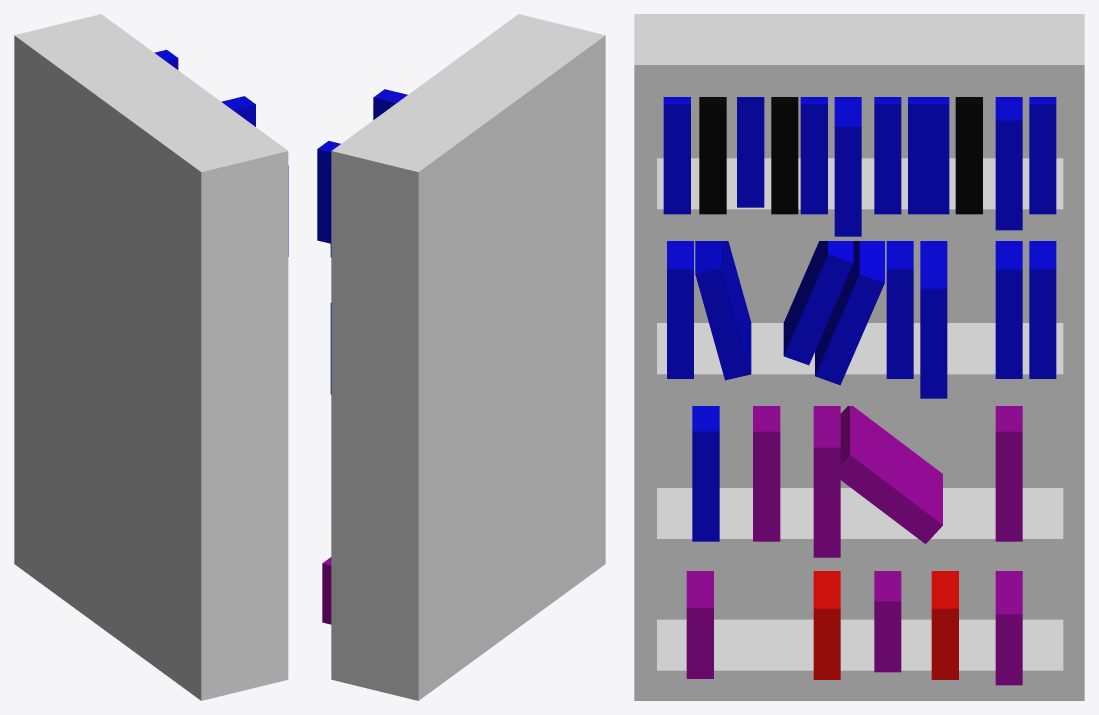
Rendered from bookshelf.fbx.
3 renders of one model, left to right at view 1: azimuth 30°, elevation 25°; view 2: azimuth 150°, elevation 25°; view 3: azimuth 270°, elevation 25°, orthographic. The views are drawn at different scales.
Parts seen in each view (by area): view 1: Cube, Cube.015; view 2: Cube, Cube.010, Cube.026, Cube.015; view 3: Cube, Cube.022, Cube.007, Cube.005, Cube.006, Cube.003, Cube.024, Cube.015, Cube.001, Cube.002, Cube.004, Cube.021 (+19 smaller).
Part boxes in pixels (x1=…): Cube: x1=14, y1=14, x2=288, y2=700; Cube.015: x1=221, y1=96, x2=255, y2=126; Cube: x1=331, y1=14, x2=605, y2=700; Cube.010: x1=317, y1=141, x2=340, y2=243; Cube.026: x1=322, y1=557, x2=331, y2=624; Cube.015: x1=373, y1=89, x2=407, y2=119; Cube: x1=634, y1=14, x2=1084, y2=700; Cube.022: x1=840, y1=406, x2=942, y2=544; Cube.007: x1=695, y1=241, x2=751, y2=380; Cube.005: x1=815, y1=241, x2=884, y2=385; Cube.006: x1=783, y1=241, x2=853, y2=365; Cube.003: x1=920, y1=241, x2=947, y2=398; Cube.024: x1=813, y1=406, x2=840, y2=557; Cube.015: x1=834, y1=97, x2=861, y2=236; Cube.001: x1=1029, y1=241, x2=1056, y2=378; Cube.002: x1=995, y1=241, x2=1022, y2=378; Cube.004: x1=886, y1=241, x2=913, y2=378; Cube.021: x1=995, y1=406, x2=1022, y2=541.
Size of the model in its own units: 315 by 1157 by 742.
